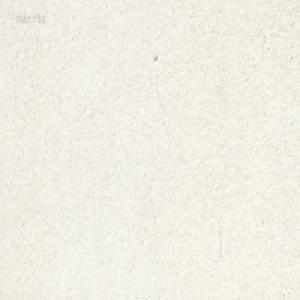Wrench: (197, 0, 204, 5)
